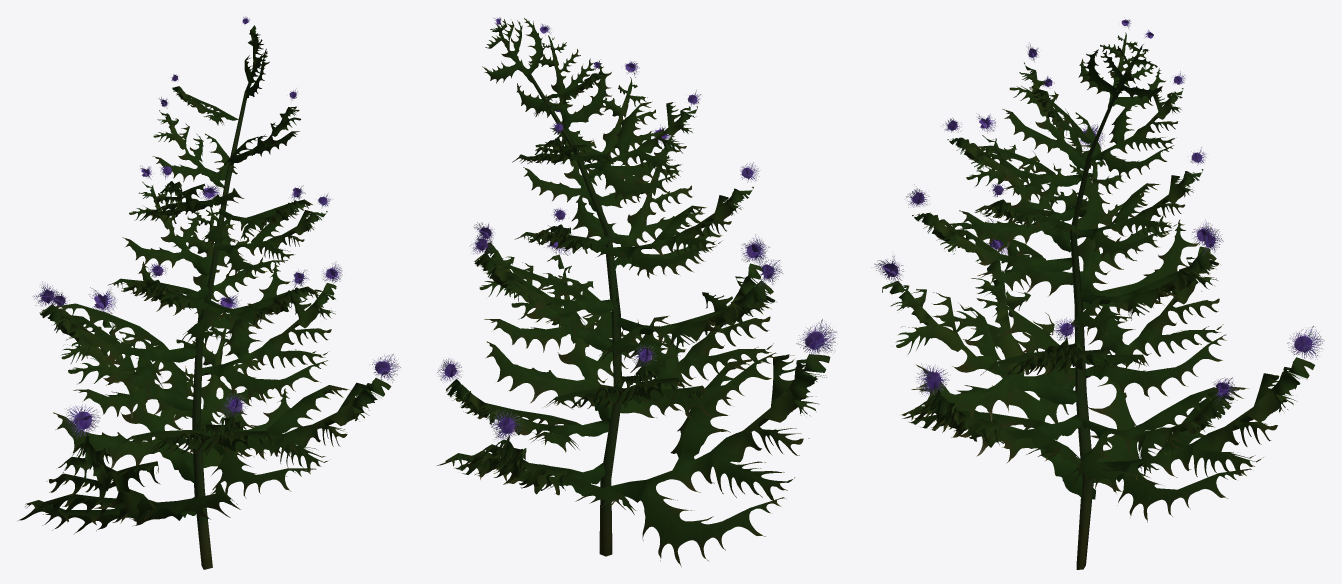
File: sm_Thistle_pianta_LOD1.fbx
The picture shows the model from 3 angles, left to right: view 1: azimuth 30°, elevation 25°; view 2: azimuth 150°, elevation 25°; view 3: azimuth 270°, elevation 25°; orthographic projection. The views are drawn at different scales.
Parts seen in each view (by area): view 1: Leaf15, Leaf17, Leaf16, Leaf06, Leaf08, Leaf05, Leaf04, Leaf18, Trunk, Leaf07, Leaf00, Leaf09 (+8 smaller); view 2: Leaf15, Leaf05, Leaf17, Leaf16, Leaf08, Leaf09, Leaf06, Trunk, Leaf03, Leaf11, Leaf07, Leaf18 (+8 smaller); view 3: Leaf16, Leaf05, Leaf15, Leaf04, Leaf08, Leaf17, Leaf18, Leaf11, Leaf09, Trunk, Leaf00, Leaf07 (+8 smaller).
Part boxes in pixels (left/top/right/bottom): Leaf15: left=17, top=404, right=240, bottom=533; Leaf17: left=211, top=354, right=400, bottom=498; Leaf16: left=53, top=287, right=254, bottom=482; Leaf06: left=201, top=261, right=342, bottom=402; Leaf08: left=32, top=281, right=196, bottom=396; Leaf05: left=118, top=393, right=299, bottom=456; Leaf04: left=52, top=292, right=193, bottom=418; Leaf18: left=145, top=294, right=290, bottom=453; Trunk: left=192, top=91, right=246, bottom=569; Leaf07: left=138, top=184, right=290, bottom=333; Leaf00: left=122, top=165, right=235, bottom=275; Leaf09: left=181, top=269, right=319, bottom=346; Leaf15: left=603, top=319, right=836, bottom=566; Leaf05: left=629, top=234, right=776, bottom=419; Leaf17: left=485, top=225, right=693, bottom=420; Leaf16: left=437, top=410, right=635, bottom=514; Leaf08: left=599, top=260, right=783, bottom=363; Leaf09: left=571, top=125, right=722, bottom=275; Leaf06: left=474, top=222, right=612, bottom=352; Trunk: left=528, top=73, right=621, bottom=556; Leaf03: left=583, top=90, right=701, bottom=203; Leaf11: left=612, top=162, right=760, bottom=278; Leaf07: left=469, top=233, right=618, bottom=336; Leaf18: left=437, top=358, right=610, bottom=452; Leaf16: left=1099, top=325, right=1324, bottom=522; Leaf05: left=871, top=256, right=1080, bottom=421; Leaf15: left=916, top=217, right=1148, bottom=499; Leaf04: left=1085, top=219, right=1226, bottom=399; Leaf08: left=1005, top=124, right=1199, bottom=311; Leaf17: left=901, top=363, right=1084, bottom=468; Leaf18: left=1070, top=377, right=1238, bottom=493; Leaf11: left=959, top=113, right=1113, bottom=252; Leaf09: left=904, top=184, right=1072, bottom=290; Trunk: left=1070, top=90, right=1118, bottom=569; Leaf00: left=1076, top=147, right=1206, bottom=261; Leaf07: left=1067, top=229, right=1223, bottom=338.
Size of the model in its own units: 1.12 by 1.74 by 1.26.
1 material, 1 textured.
